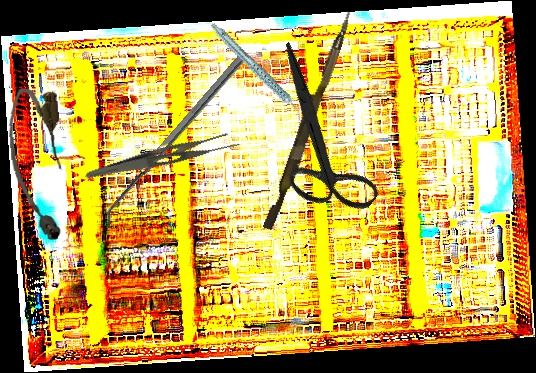Cannula: (5, 86, 70, 243)
Dressing Forceps: (84, 123, 242, 196)
Handpiece: (208, 7, 305, 137)
Iris Scissors: (217, 40, 420, 235)
Pusher: (262, 7, 354, 233)
Spatula Surgical: (97, 50, 256, 229)
